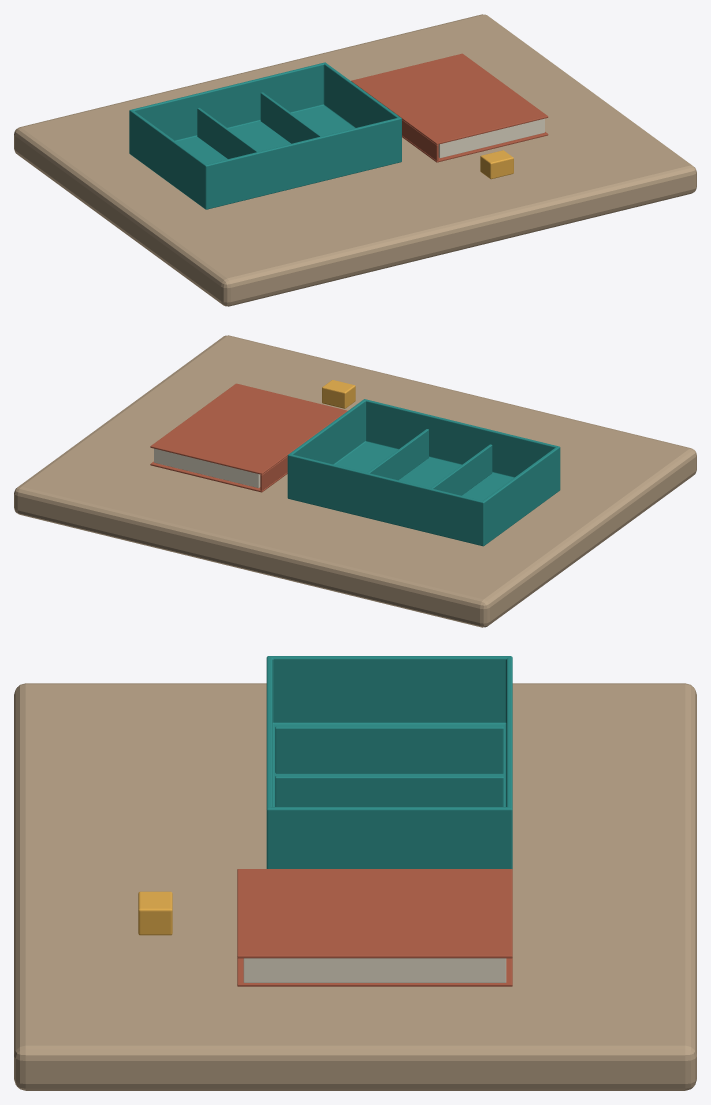
File: reading-corner.glb
3 renders of one model, top to bottom at view 1: azimuth 30°, elevation 25°; view 2: azimuth 150°, elevation 25°; view 3: azimuth 270°, elevation 25°, orthographic. The views are drawn at different scales.
Visible parts, largest first — view 1: Desk, Tray, Book_Cover, Book_Pages, Divider_02, Divider_01, Accent_Block; view 2: Desk, Tray, Book_Cover, Book_Pages, Divider_01, Divider_02, Accent_Block; view 3: Desk, Tray, Book_Cover, Divider_01, Divider_02, Book_Pages, Accent_Block.
Boxes of the visible parts, x1,y1,x2,y2 form: Desk: (14,14,696,306); Tray: (129,62,401,209); Book_Cover: (351,53,548,162); Book_Pages: (438,118,544,158); Divider_02: (260,92,322,143); Divider_01: (197,107,258,158); Accent_Block: (480,150,513,179); Desk: (14,335,696,627); Tray: (287,399,560,546); Book_Cover: (150,383,347,492); Book_Pages: (154,448,260,488); Divider_01: (430,444,492,495); Divider_02: (367,429,428,480); Accent_Block: (322,380,355,408); Desk: (14,683,696,1090); Tray: (266,656,512,868); Book_Cover: (237,869,512,986); Divider_01: (275,726,503,773); Divider_02: (275,776,503,806); Book_Pages: (243,958,506,982); Accent_Block: (138,891,172,935).
Bounding box in the file's own units: 0.9 × 0.13 × 0.7.
